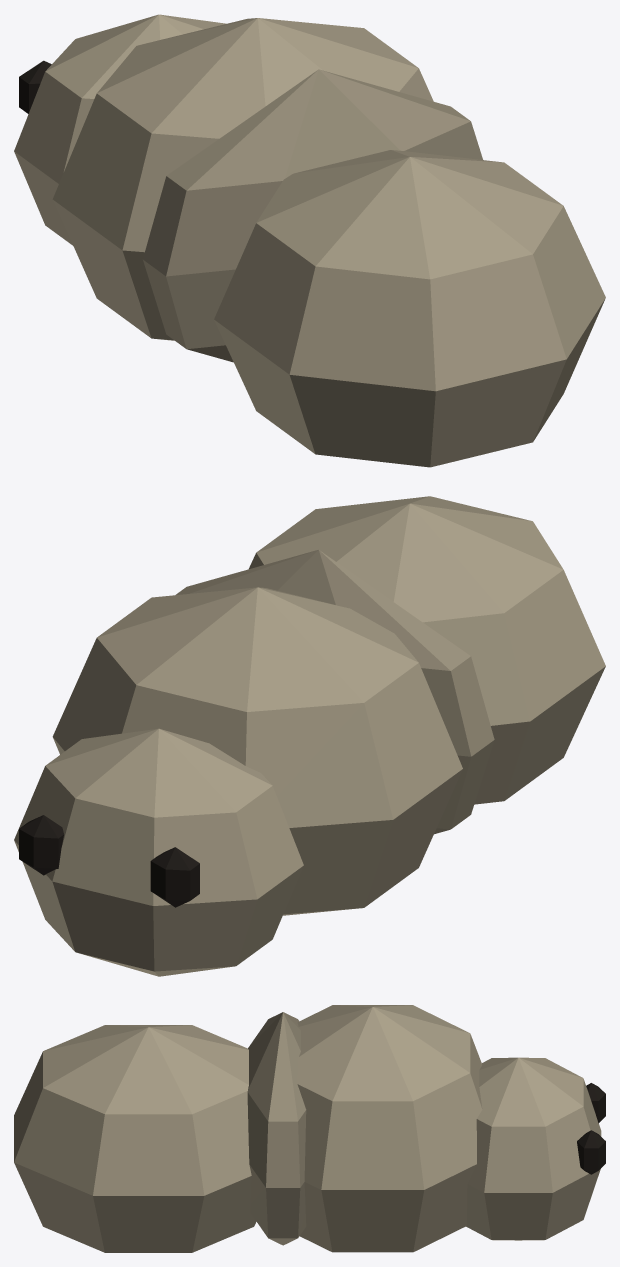
File: animal_larva_bones.obj
3 views of the same model, one above another, from view 1: azimuth 30°, elevation 25°; view 2: azimuth 150°, elevation 25°; view 3: azimuth 270°, elevation 25° (orthographic). The views are drawn at different scales.
Bounding box in the file's own units: 0.2586 × 0.24 × 0.5281.
